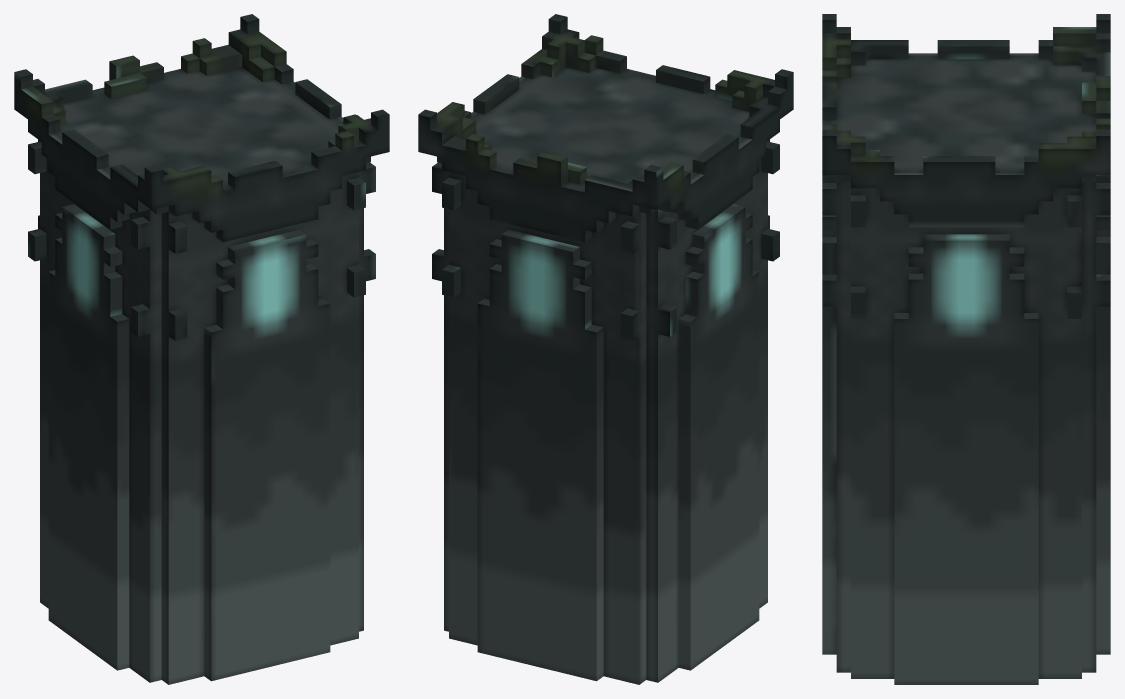
The model's file is small_isl_extra2.fbx.
3 renders of one model, left to right at view 1: azimuth 30°, elevation 25°; view 2: azimuth 150°, elevation 25°; view 3: azimuth 270°, elevation 25°, orthographic. The views are drawn at different scales.
Visible parts, largest first — view 1: small_isl_extra2.001; view 2: small_isl_extra2.001; view 3: small_isl_extra2.001.
Boxes of the visible parts, x1,y1,x2,y2 form: small_isl_extra2.001: (14, 14, 389, 684); small_isl_extra2.001: (418, 14, 793, 684); small_isl_extra2.001: (822, 14, 1110, 684).
Bounding box in the file's own units: 2 × 4.2 × 2.
1 material, 1 textured.
